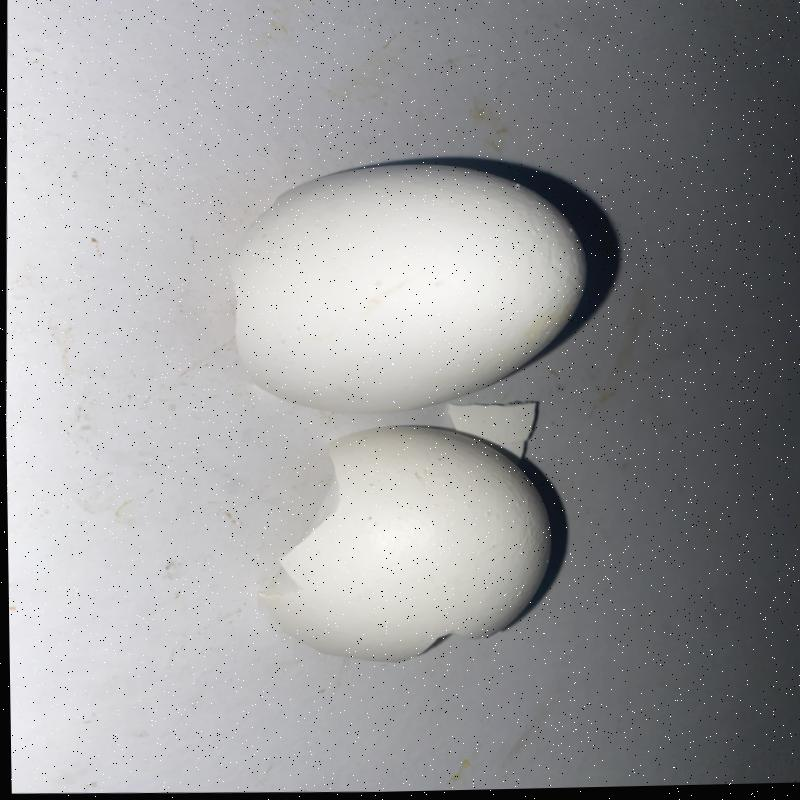egg shell: (229, 164, 586, 415), (259, 425, 551, 663), (447, 403, 538, 459)
